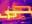Hotspot: (6, 10, 32, 14), (0, 16, 17, 18), (12, 14, 17, 16), (6, 14, 11, 16), (0, 13, 2, 16)
